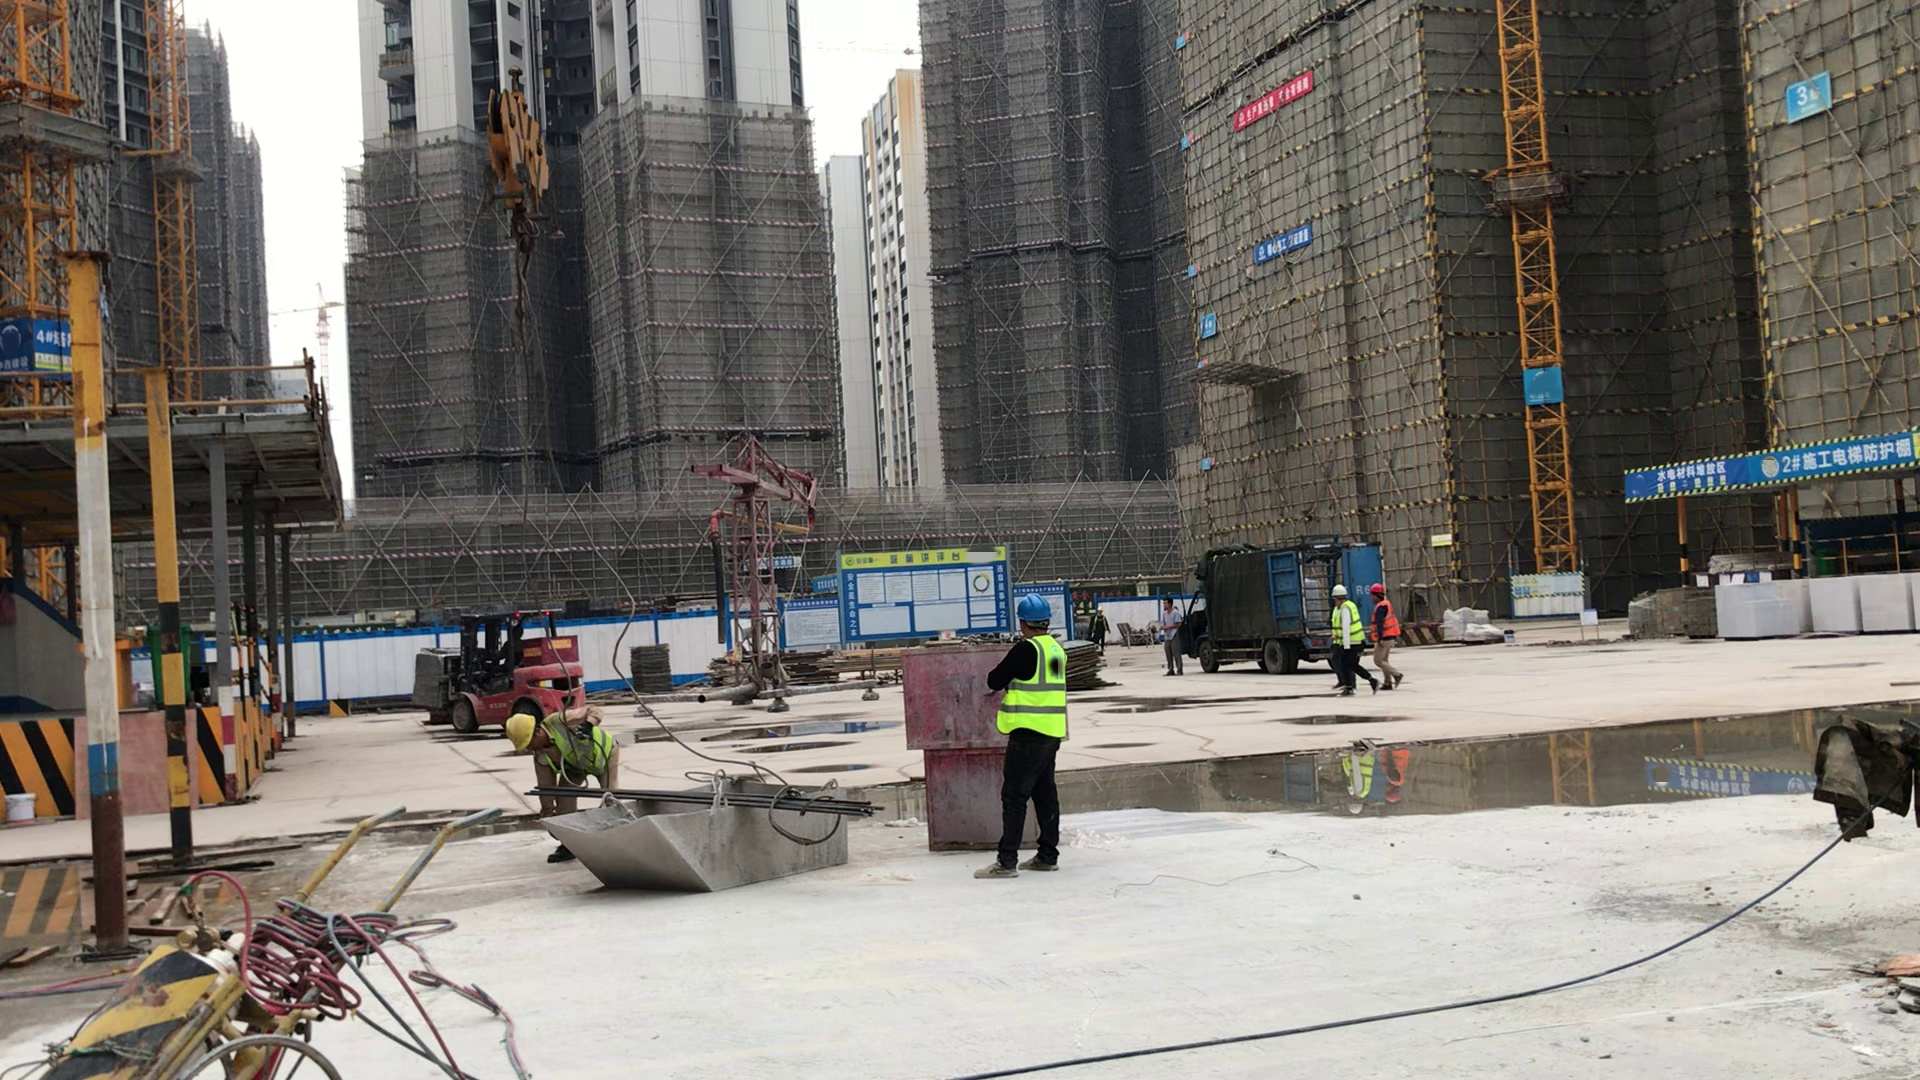board: (1061, 633, 1108, 693)
brick: (1702, 557, 1919, 659), (398, 647, 457, 710)
fence: (225, 632, 299, 732)
handcart: (30, 770, 539, 1080)
helmet: (1014, 587, 1063, 637), (501, 706, 541, 759), (1327, 580, 1358, 608), (1366, 579, 1389, 605)
hook: (472, 57, 563, 268)
hopper: (529, 761, 865, 903)
person: (983, 583, 1086, 907), (481, 683, 661, 856), (1362, 572, 1432, 708), (1319, 570, 1370, 726), (1152, 592, 1196, 688)
rebar: (518, 777, 915, 841)
slogan: (1604, 420, 1920, 517), (835, 541, 1010, 659), (1627, 743, 1822, 818), (1, 304, 114, 399), (1196, 70, 1329, 137), (1502, 565, 1602, 635), (1502, 361, 1573, 423), (1771, 72, 1840, 135), (1237, 222, 1326, 268), (773, 592, 846, 645), (744, 550, 817, 577), (1195, 300, 1226, 347), (803, 572, 846, 595)
vest: (993, 630, 1074, 742), (537, 711, 614, 782), (1364, 600, 1401, 651), (1335, 597, 1367, 647), (1324, 604, 1344, 644)
wood: (811, 649, 909, 674)
